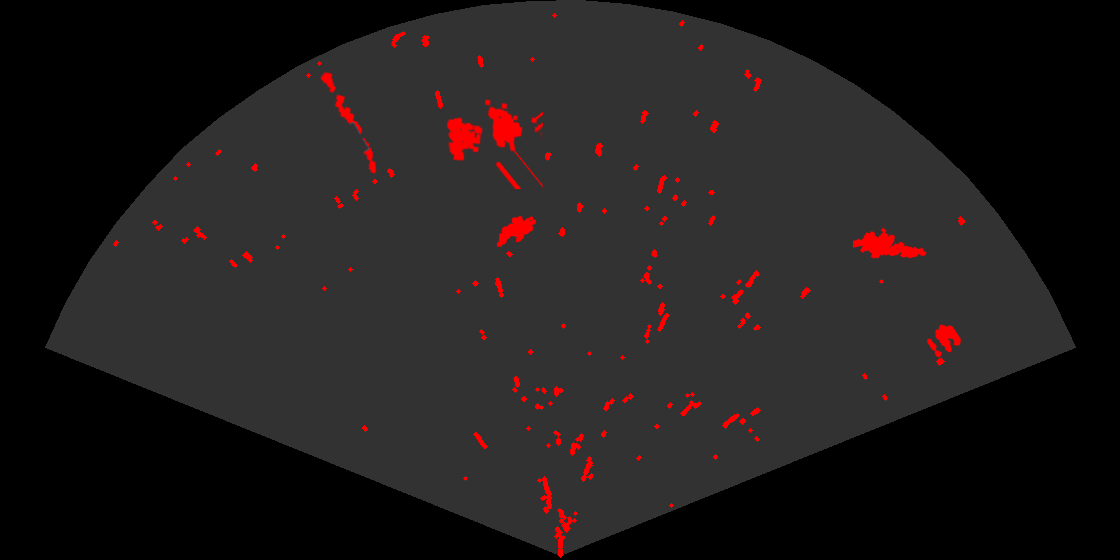AUV: (495, 214, 538, 249)
ball: (925, 323, 963, 359)
cage: (445, 98, 543, 189)
chain: (319, 70, 378, 175)
frogman: (853, 226, 928, 260)
